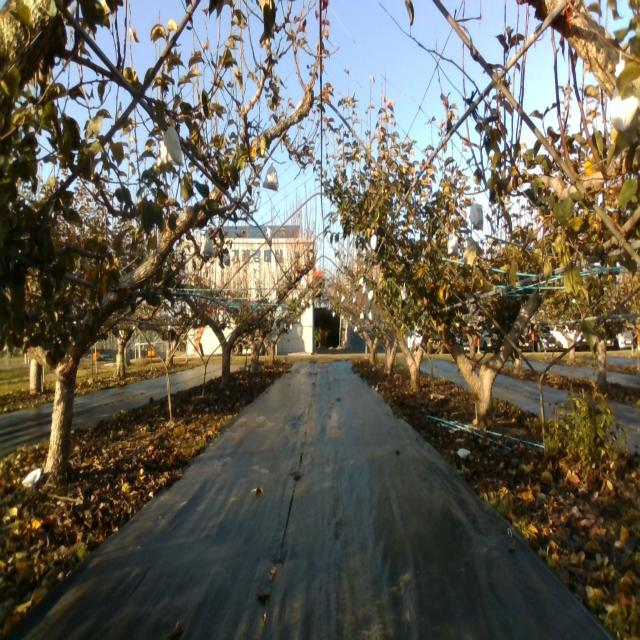pearbags: (611, 82, 638, 134), (159, 126, 183, 170), (263, 163, 279, 191), (470, 203, 484, 231), (200, 237, 215, 259), (447, 233, 459, 256)
